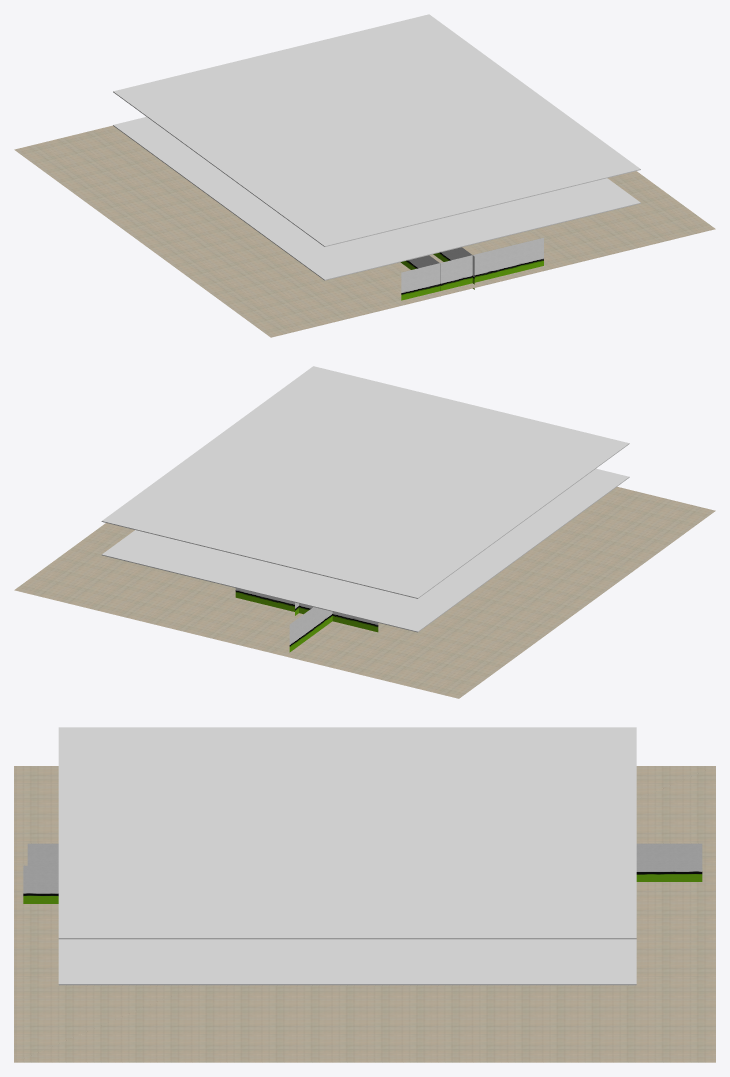
The model's file is freihaus_v0_7_environment.dae.
3 views of the same model, one above another, from view 1: azimuth 30°, elevation 25°; view 2: azimuth 150°, elevation 25°; view 3: azimuth 270°, elevation 25° (orthographic). The views are drawn at different scales.
Visible parts, largest first — view 1: Plane_018, Plane, Plane_009, Plane_013; view 2: Plane_018, Plane, Plane_009, Plane_012, Plane_011; view 3: Plane_018, Plane, Plane_009, Plane_011, Plane_006, Plane_010.
Boxes of the visible parts, left/top/right/bottom form: Plane_018: left=113, top=14, right=640, bottom=246; Plane: left=14, top=125, right=715, bottom=337; Plane_009: left=113, top=117, right=640, bottom=280; Plane_013: left=401, top=238, right=543, bottom=300; Plane_018: left=101, top=366, right=629, bottom=598; Plane: left=14, top=486, right=715, bottom=698; Plane_009: left=102, top=468, right=629, bottom=632; Plane_012: left=235, top=588, right=378, bottom=632; Plane_011: left=289, top=607, right=332, bottom=652; Plane_018: left=58, top=727, right=636, bottom=939; Plane: left=14, top=766, right=715, bottom=1062; Plane_009: left=58, top=939, right=636, bottom=985; Plane_011: left=636, top=843, right=702, bottom=881; Plane_006: left=23, top=865, right=58, bottom=903; Plane_010: left=27, top=843, right=58, bottom=865.
Bounding box in the file's own units: 80 × 80 × 16.63.
